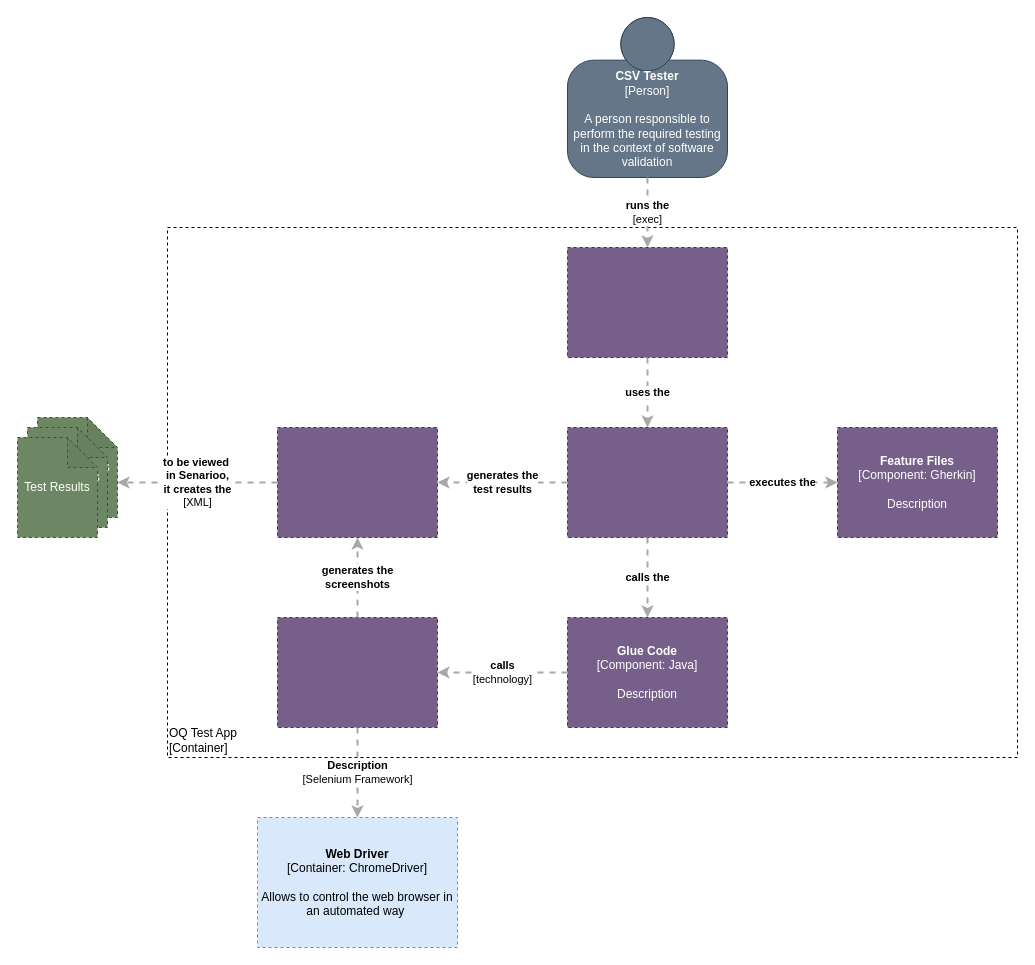
This 1035x965 diagram has some shape labels left out. Each missing label, with the centre of its shape:
Cucumber Scenarioo Plugin [Component: Java ] Description: point (357, 482)
Cucumber Test Runner [Component: Java ] Description: point (647, 482)
JUnit Framework [Component: Java ] Description: point (647, 302)
Selenium [Component: Java ] Description: point (357, 672)
